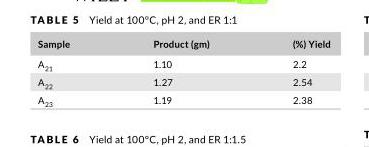table: (37, 37, 329, 107)
table column: (110, 37, 250, 107), (250, 37, 329, 107), (37, 37, 110, 107)
table column header: (37, 37, 329, 53)
table row: (37, 53, 329, 73), (37, 73, 329, 91), (37, 37, 329, 53), (37, 91, 329, 107)
